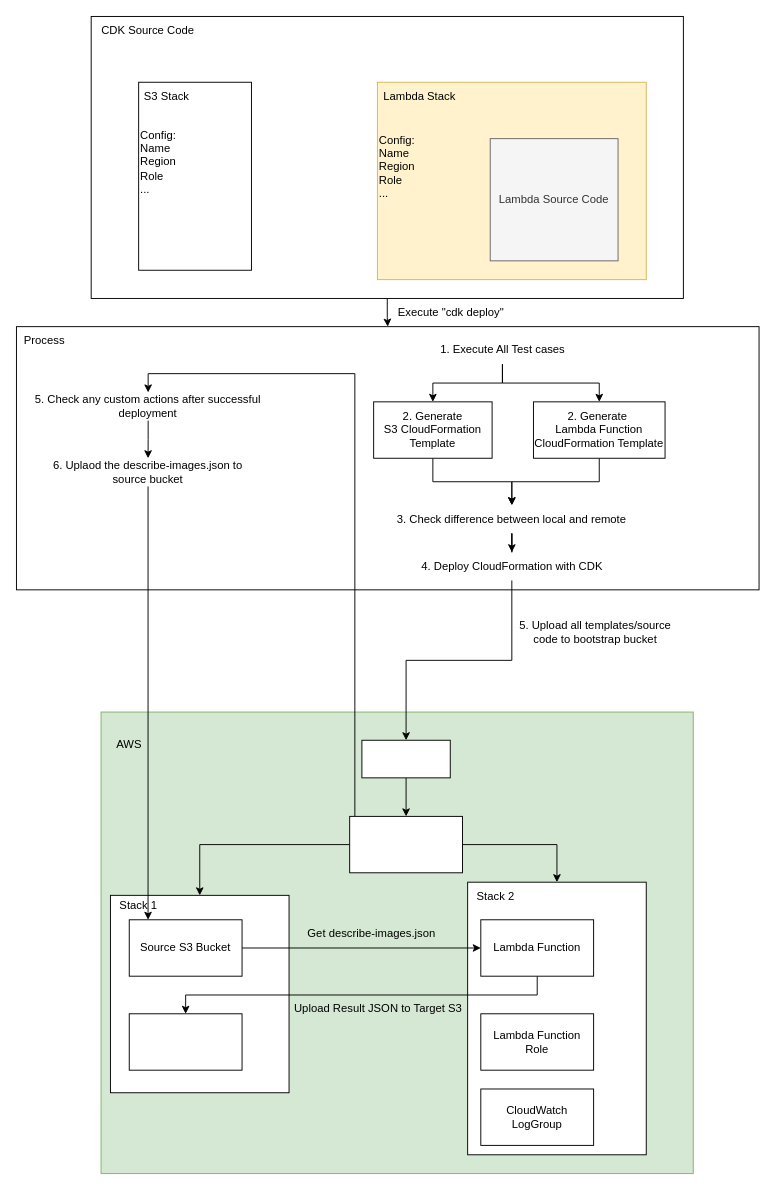
Image size: 776x1190. Some labels were removed from this diagram. The box of each missing label's shape, as (x1, y1, x2, y2) in pixels:
CDK Bootstrap Bucket: (361, 739, 450, 778)
CloudFormation: (349, 815, 462, 873)
Target S3 Bucket: (128, 1013, 242, 1070)
